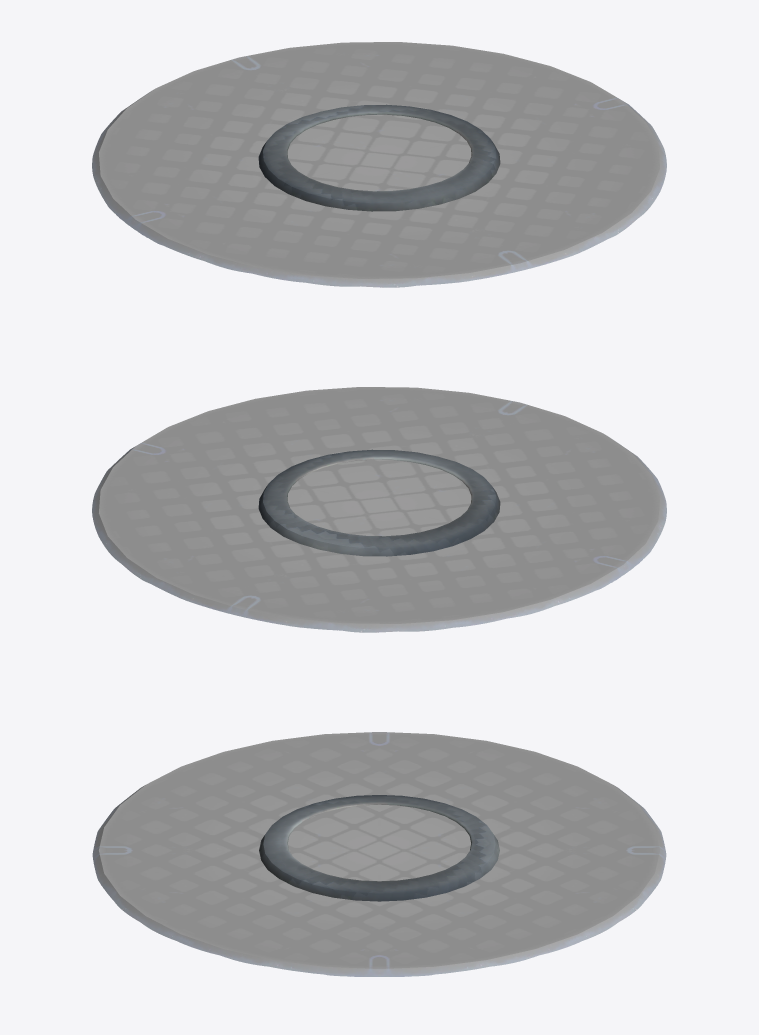
Rendered from pref_TPC_v2_NeutralScoreArea03_winter_purple_static_lv2.fbx.
The picture shows the model from 3 angles, top to bottom: view 1: azimuth 30°, elevation 25°; view 2: azimuth 150°, elevation 25°; view 3: azimuth 270°, elevation 25°; orthographic projection.
Visible parts, largest first — view 1: sm_prop_platform06a_lv2, sm_prop_platform06b_lv2; view 2: sm_prop_platform06a_lv2, sm_prop_platform06b_lv2; view 3: sm_prop_platform06a_lv2, sm_prop_platform06b_lv2.
Part boxes in pixels (bbox=[...]): sm_prop_platform06a_lv2: bbox=[92, 42, 666, 287]; sm_prop_platform06b_lv2: bbox=[258, 104, 500, 211]; sm_prop_platform06a_lv2: bbox=[92, 387, 666, 632]; sm_prop_platform06b_lv2: bbox=[258, 449, 500, 556]; sm_prop_platform06a_lv2: bbox=[92, 732, 666, 976]; sm_prop_platform06b_lv2: bbox=[259, 795, 499, 901].
Bounding box in the file's own units: 7.46 × 0.2872 × 7.46.
